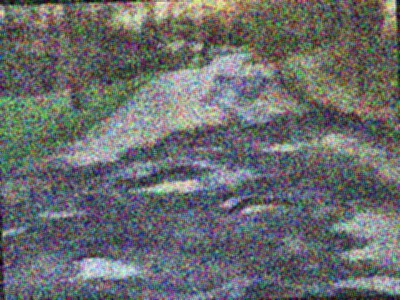pothole: (120, 163, 212, 194), (71, 250, 145, 282), (240, 280, 323, 298), (232, 194, 295, 217), (43, 205, 83, 217)
